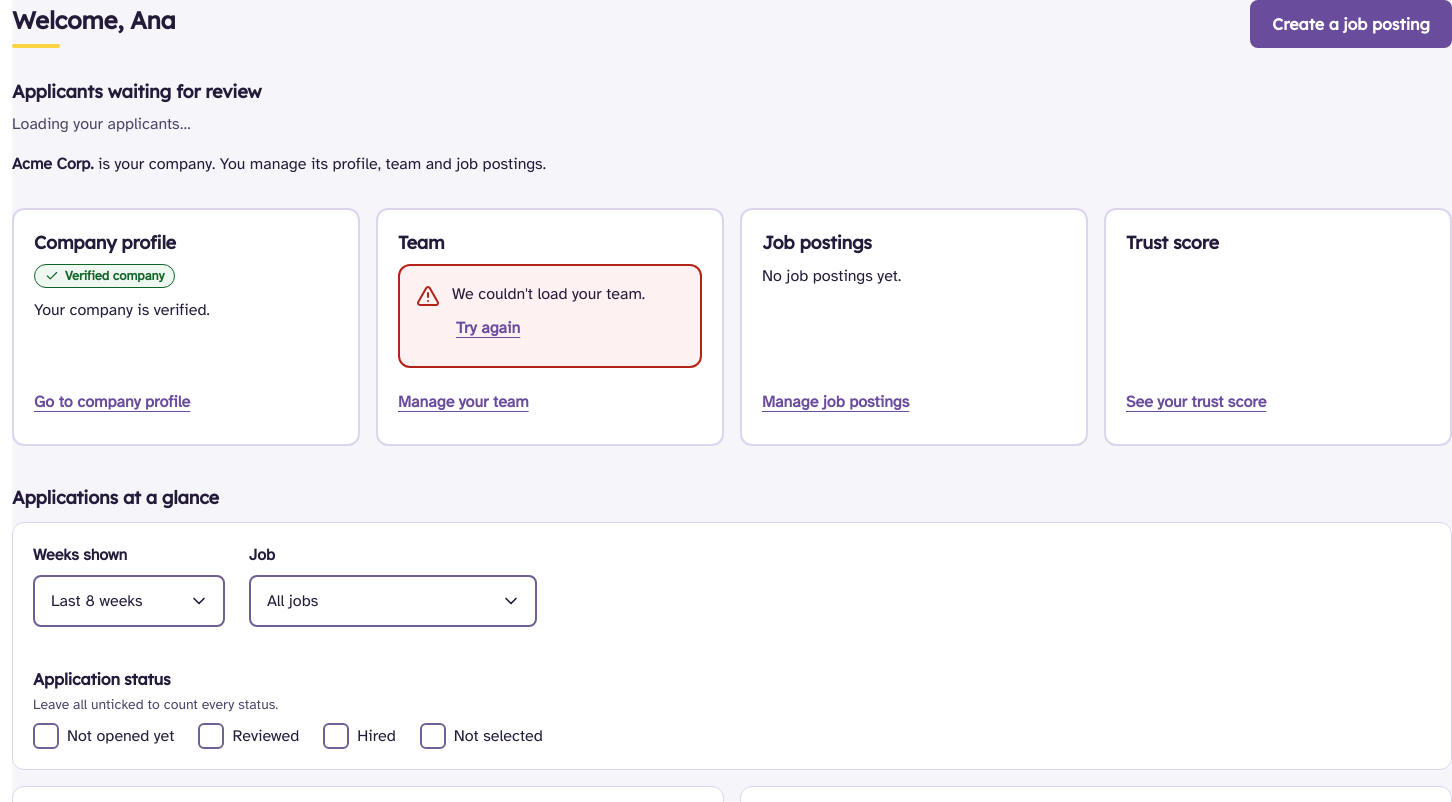
Test case: EmployerDashboard › says when the team cannot be loaded, and tries again
Expected: the text "We couldn't load your team." is shown, [452,282,645,306]
Click the button "Try again". click: (488, 328)
box: [452,306,524,350]
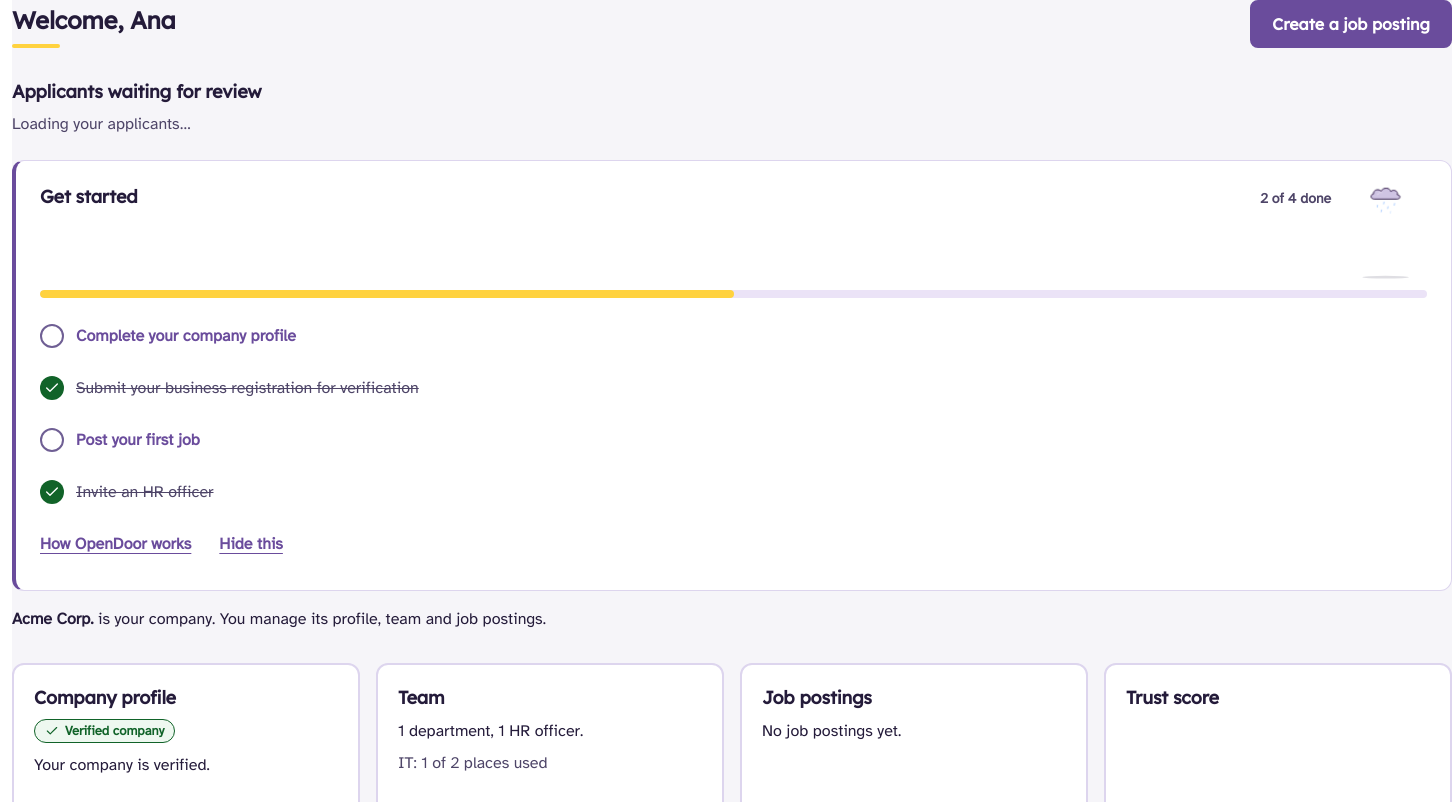
Expected: the text "IT: 1 of 2 places used" is shown, [398,754,548,774]
